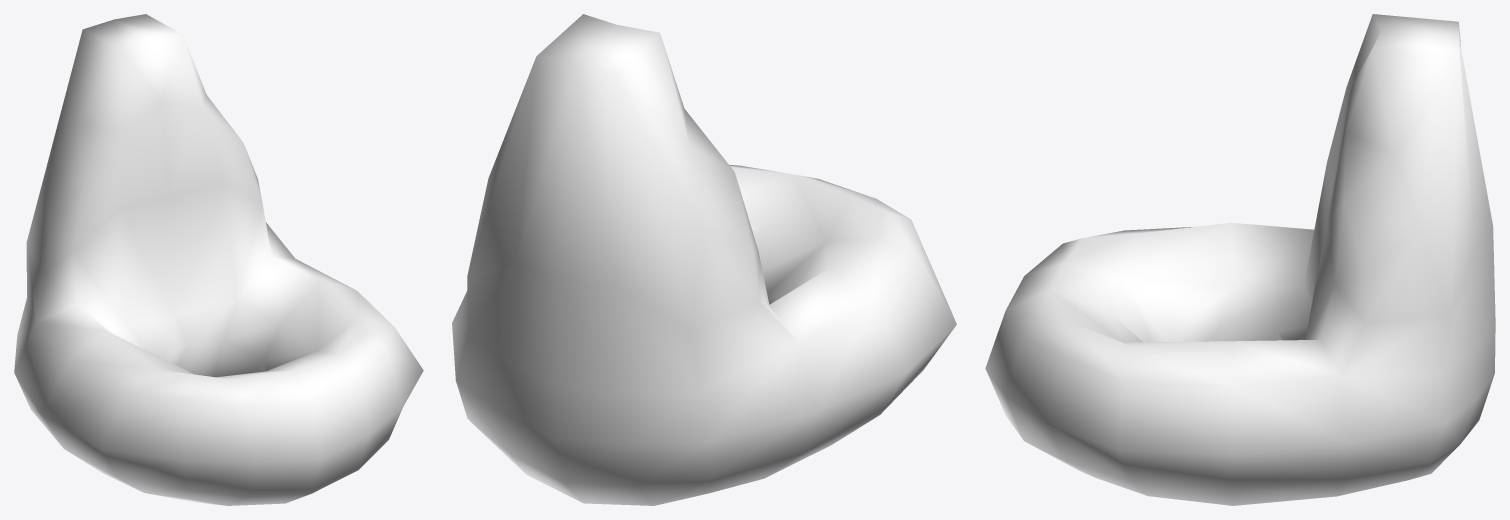
File: Prop_BagChair_04.fbx
3 renders of one model, left to right at view 1: azimuth 30°, elevation 25°; view 2: azimuth 150°, elevation 25°; view 3: azimuth 270°, elevation 25°, orthographic. The views are drawn at different scales.
Parts seen in each view (by area): view 1: Prop_BagChair_04; view 2: Prop_BagChair_04; view 3: Prop_BagChair_04.
Boxes of the visible parts, x1,y1,x2,y2 form: Prop_BagChair_04: (14, 14, 423, 505); Prop_BagChair_04: (452, 14, 956, 505); Prop_BagChair_04: (985, 14, 1495, 505).
Bounding box in the file's own units: 107 × 116 × 121.
